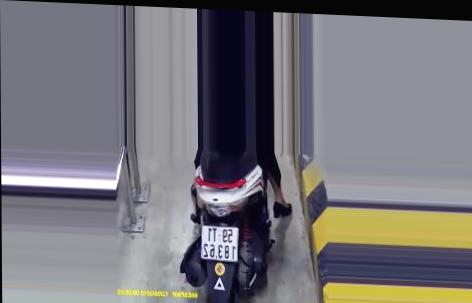License_Plate: (197, 223, 242, 262)
